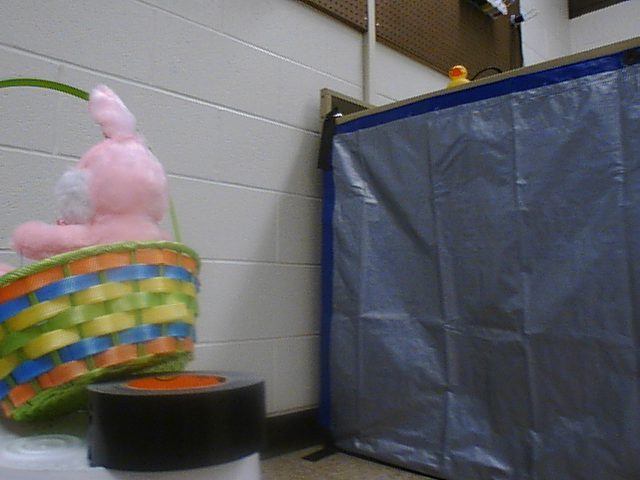bunny: (1, 75, 213, 424)
